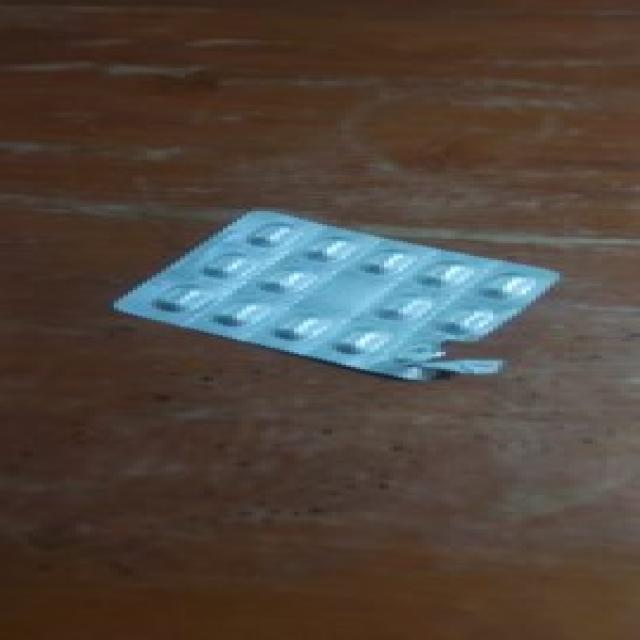Cacat: (113, 210, 550, 384)
Kemasan: (403, 338, 521, 384)
